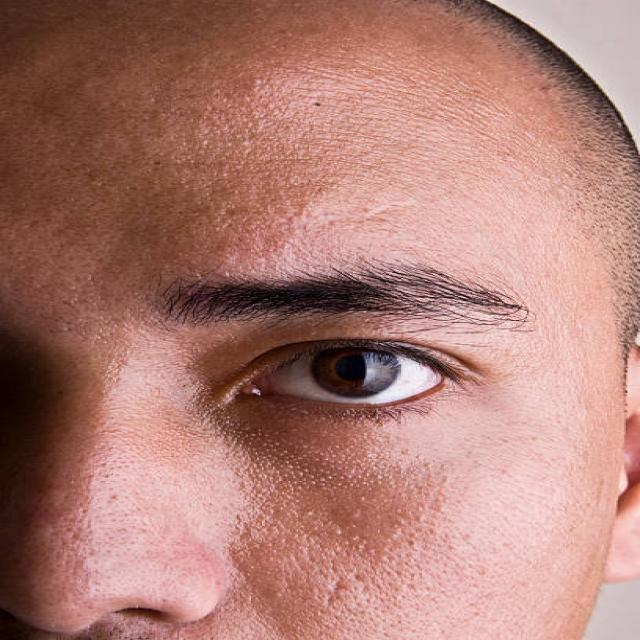no_dark_circle: (226, 399, 534, 457)
